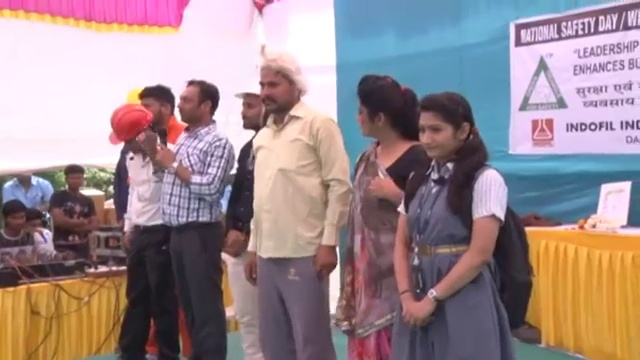helmet: (109, 98, 152, 144), (234, 73, 267, 100)
helmet_off: (413, 91, 482, 173), (355, 70, 418, 159), (255, 56, 307, 120), (175, 79, 219, 133), (134, 87, 176, 134), (2, 201, 28, 237), (59, 166, 87, 194), (25, 209, 45, 236)
helmet_on: (106, 99, 156, 158), (234, 72, 268, 131)
person: (394, 75, 530, 360), (245, 49, 355, 360), (137, 76, 235, 360), (347, 68, 429, 360), (107, 101, 167, 360), (225, 67, 271, 357), (1, 201, 66, 266), (49, 168, 96, 252), (0, 170, 54, 210)
